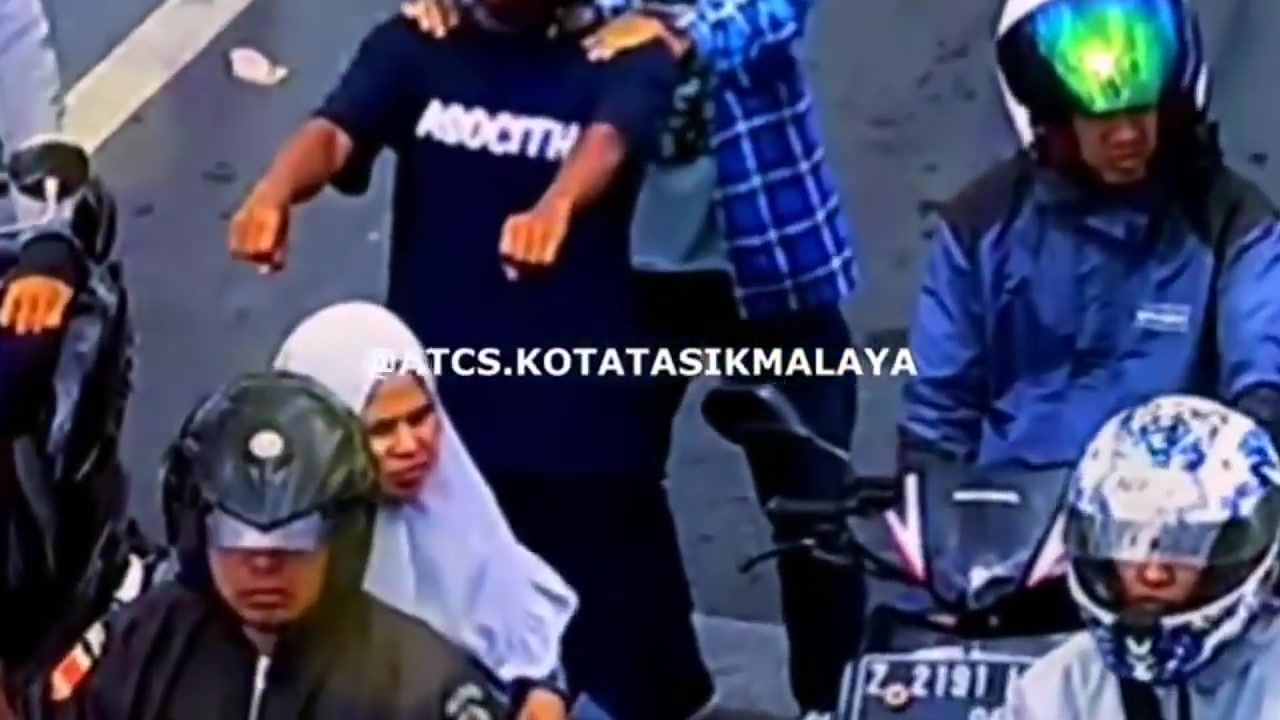person with helmet: (1045, 373, 1279, 720), (140, 381, 376, 720), (989, 2, 1236, 271)
person without helm: (325, 292, 463, 606)
